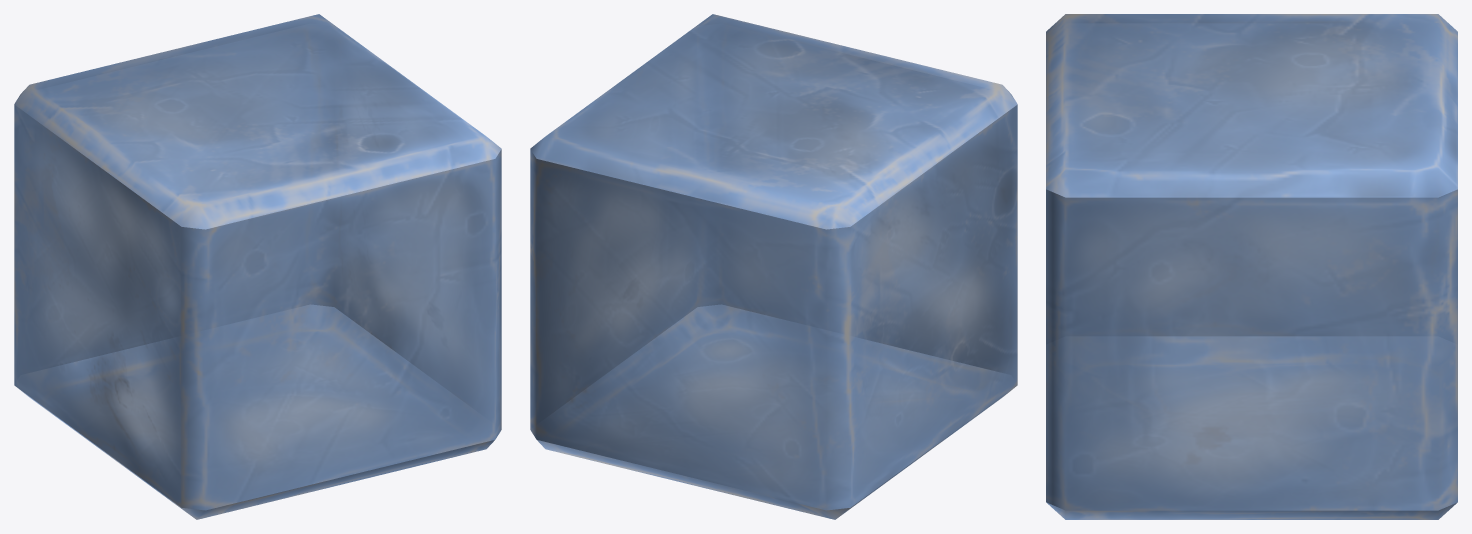
File: iceCube.glb
3 renders of one model, left to right at view 1: azimuth 30°, elevation 25°; view 2: azimuth 150°, elevation 25°; view 3: azimuth 270°, elevation 25°, orthographic. The views are drawn at different scales.
Visible parts, largest first — view 1: iceCube, iceCube.002, iceCube.001; view 2: iceCube, iceCube.002, iceCube.001; view 3: iceCube, iceCube.002, iceCube.001.
Boxes of the visible parts, bbox=[...] form: iceCube: bbox=[14, 26, 501, 510]; iceCube.002: bbox=[14, 14, 501, 229]; iceCube.001: bbox=[17, 304, 494, 519]; iceCube: bbox=[530, 26, 1017, 510]; iceCube.002: bbox=[530, 14, 1017, 229]; iceCube.001: bbox=[537, 304, 1014, 519]; iceCube: bbox=[1046, 23, 1457, 510]; iceCube.002: bbox=[1046, 14, 1457, 197]; iceCube.001: bbox=[1046, 336, 1457, 519].
Size of what is drawn, in the model's own units: 2 by 1.87 by 2.
Materials: 1 (1 with a texture image).
